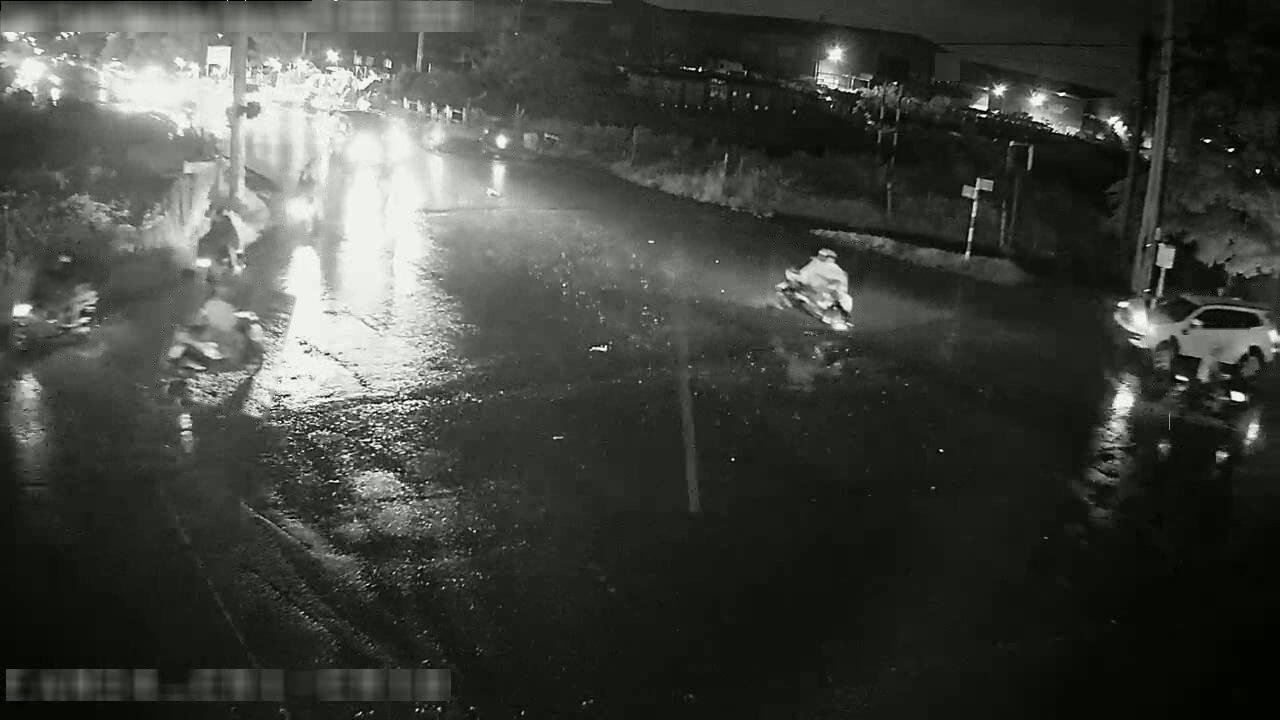Car: (1113, 294, 1279, 377), (337, 113, 401, 164)
Motorcyclist: (158, 279, 274, 410), (9, 253, 98, 351), (775, 247, 852, 331), (1170, 350, 1251, 426), (196, 204, 245, 284), (285, 166, 322, 237), (481, 120, 520, 162), (423, 114, 448, 153)
